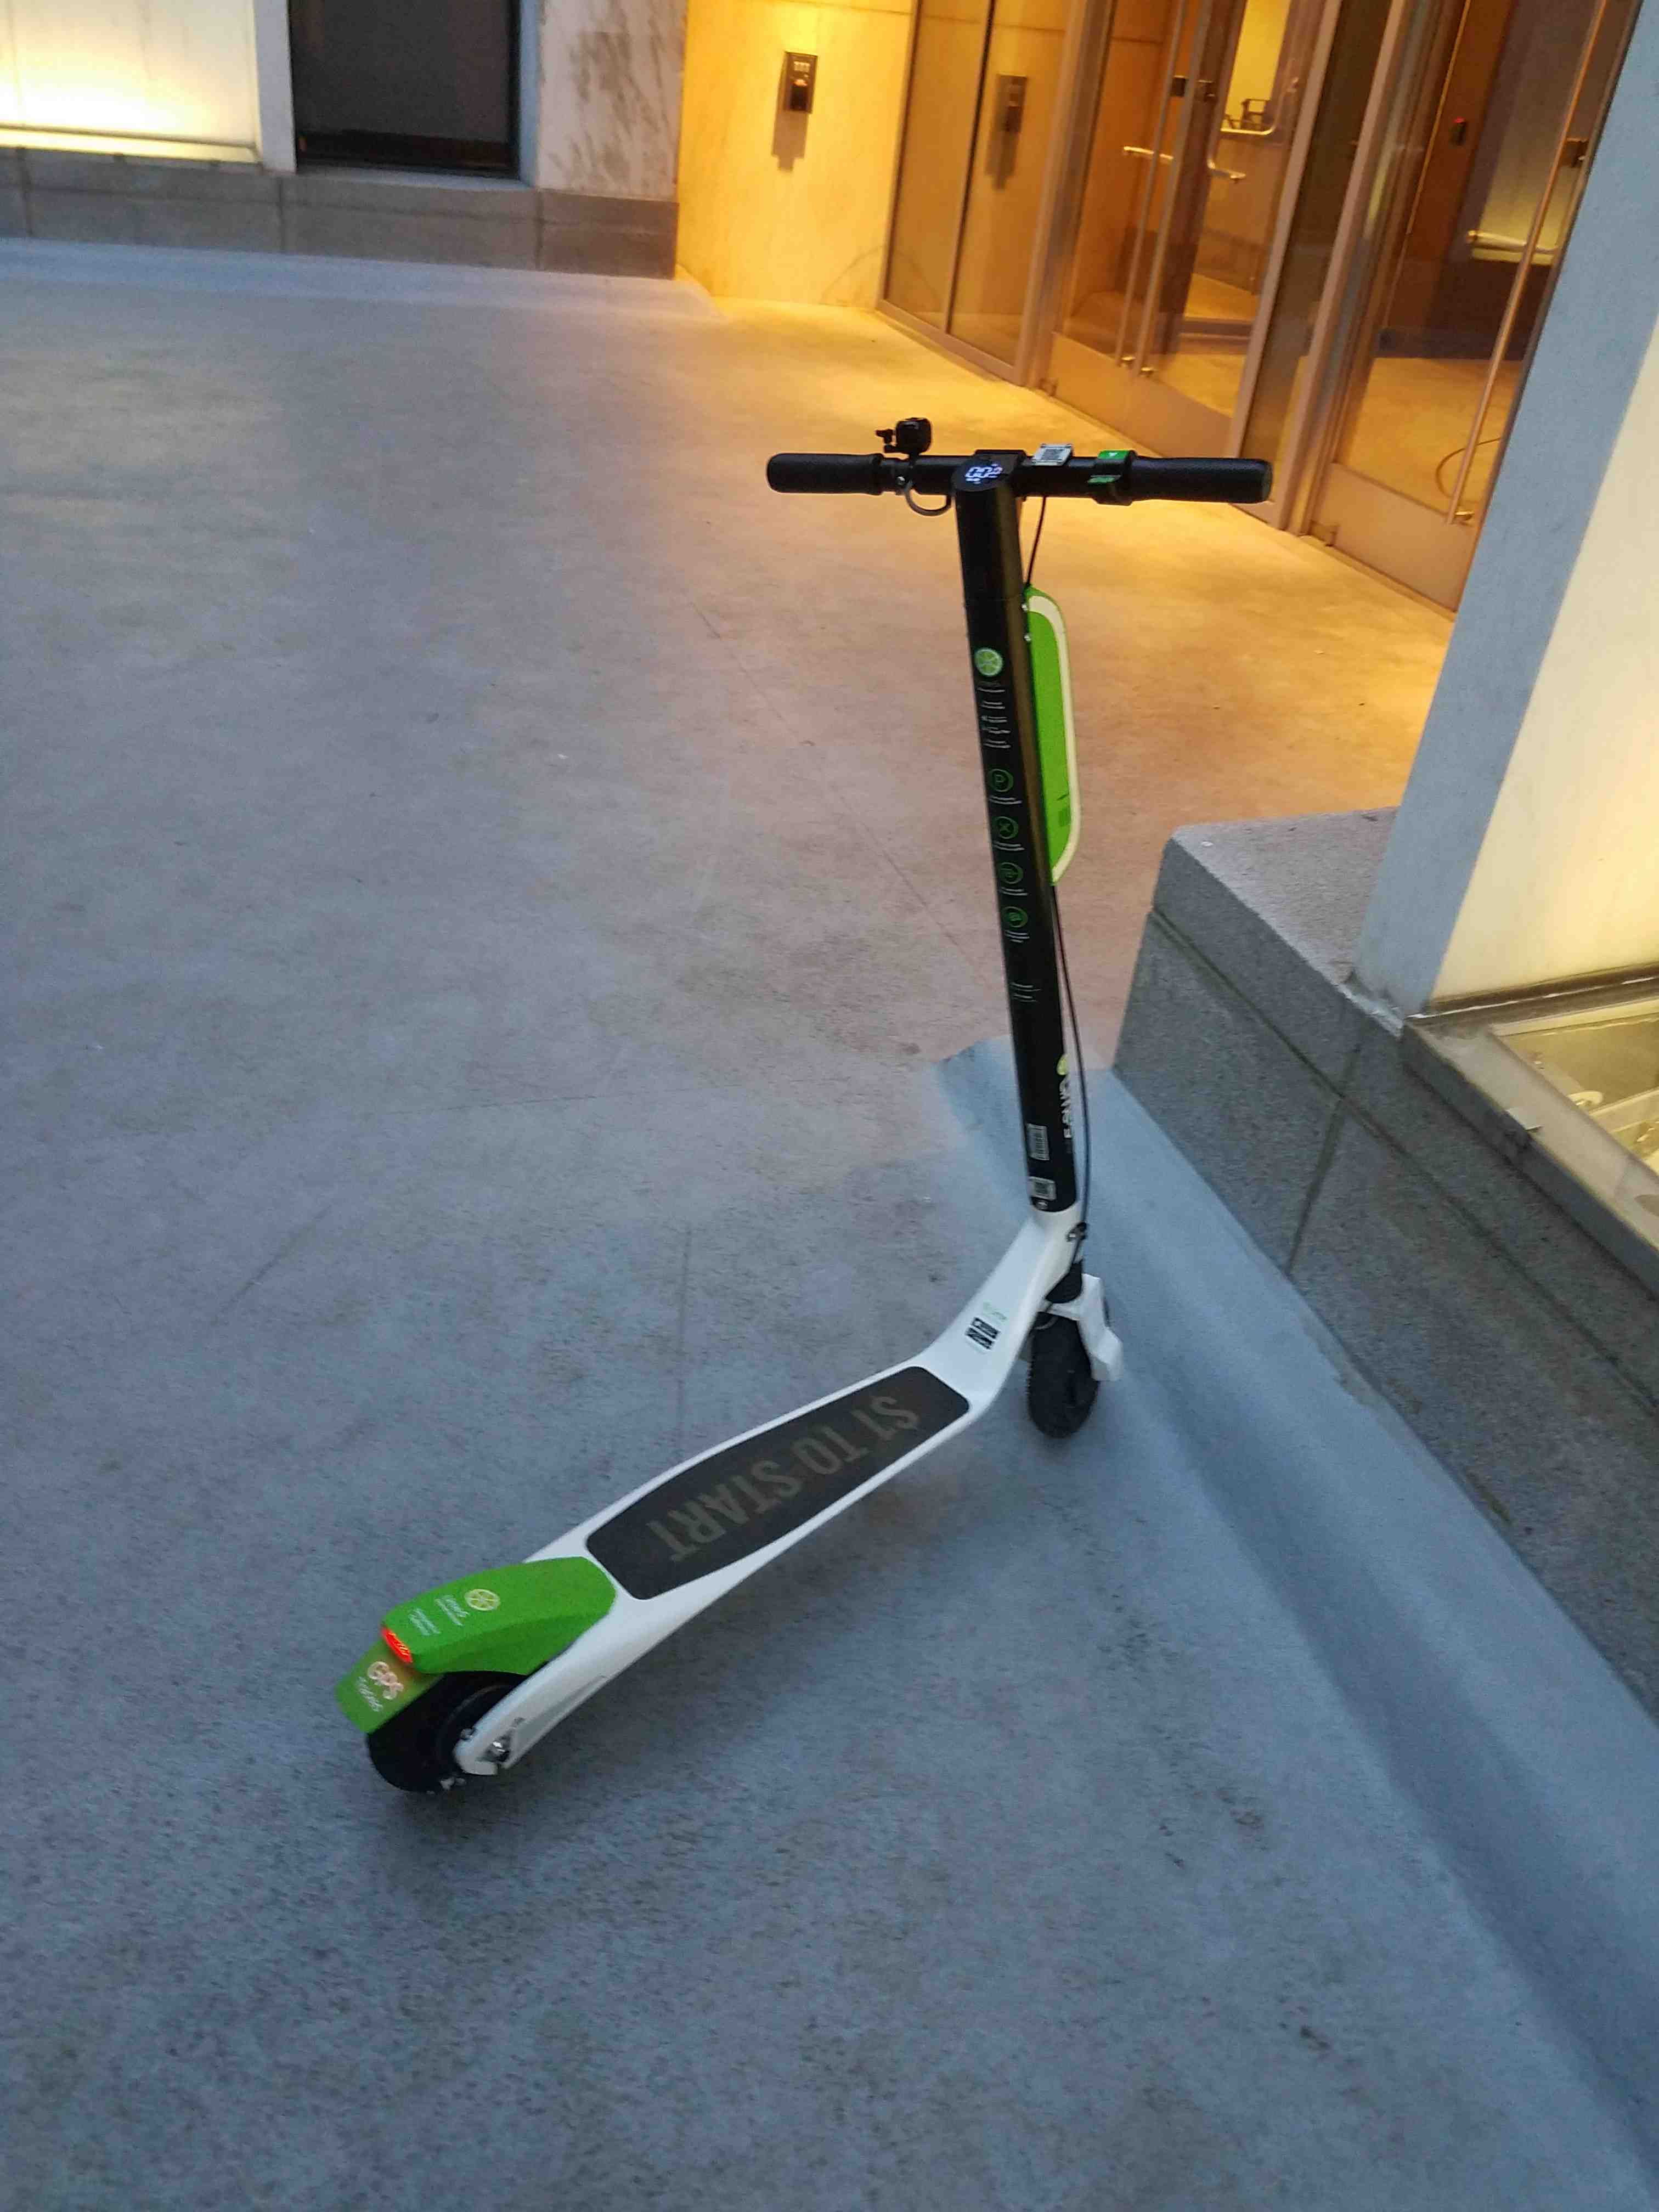scooter: (310, 399, 1272, 1824)
